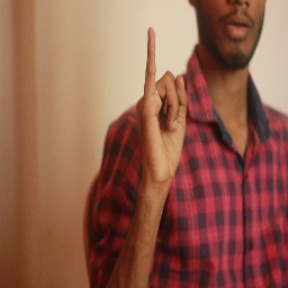I: (139, 26, 193, 174)
